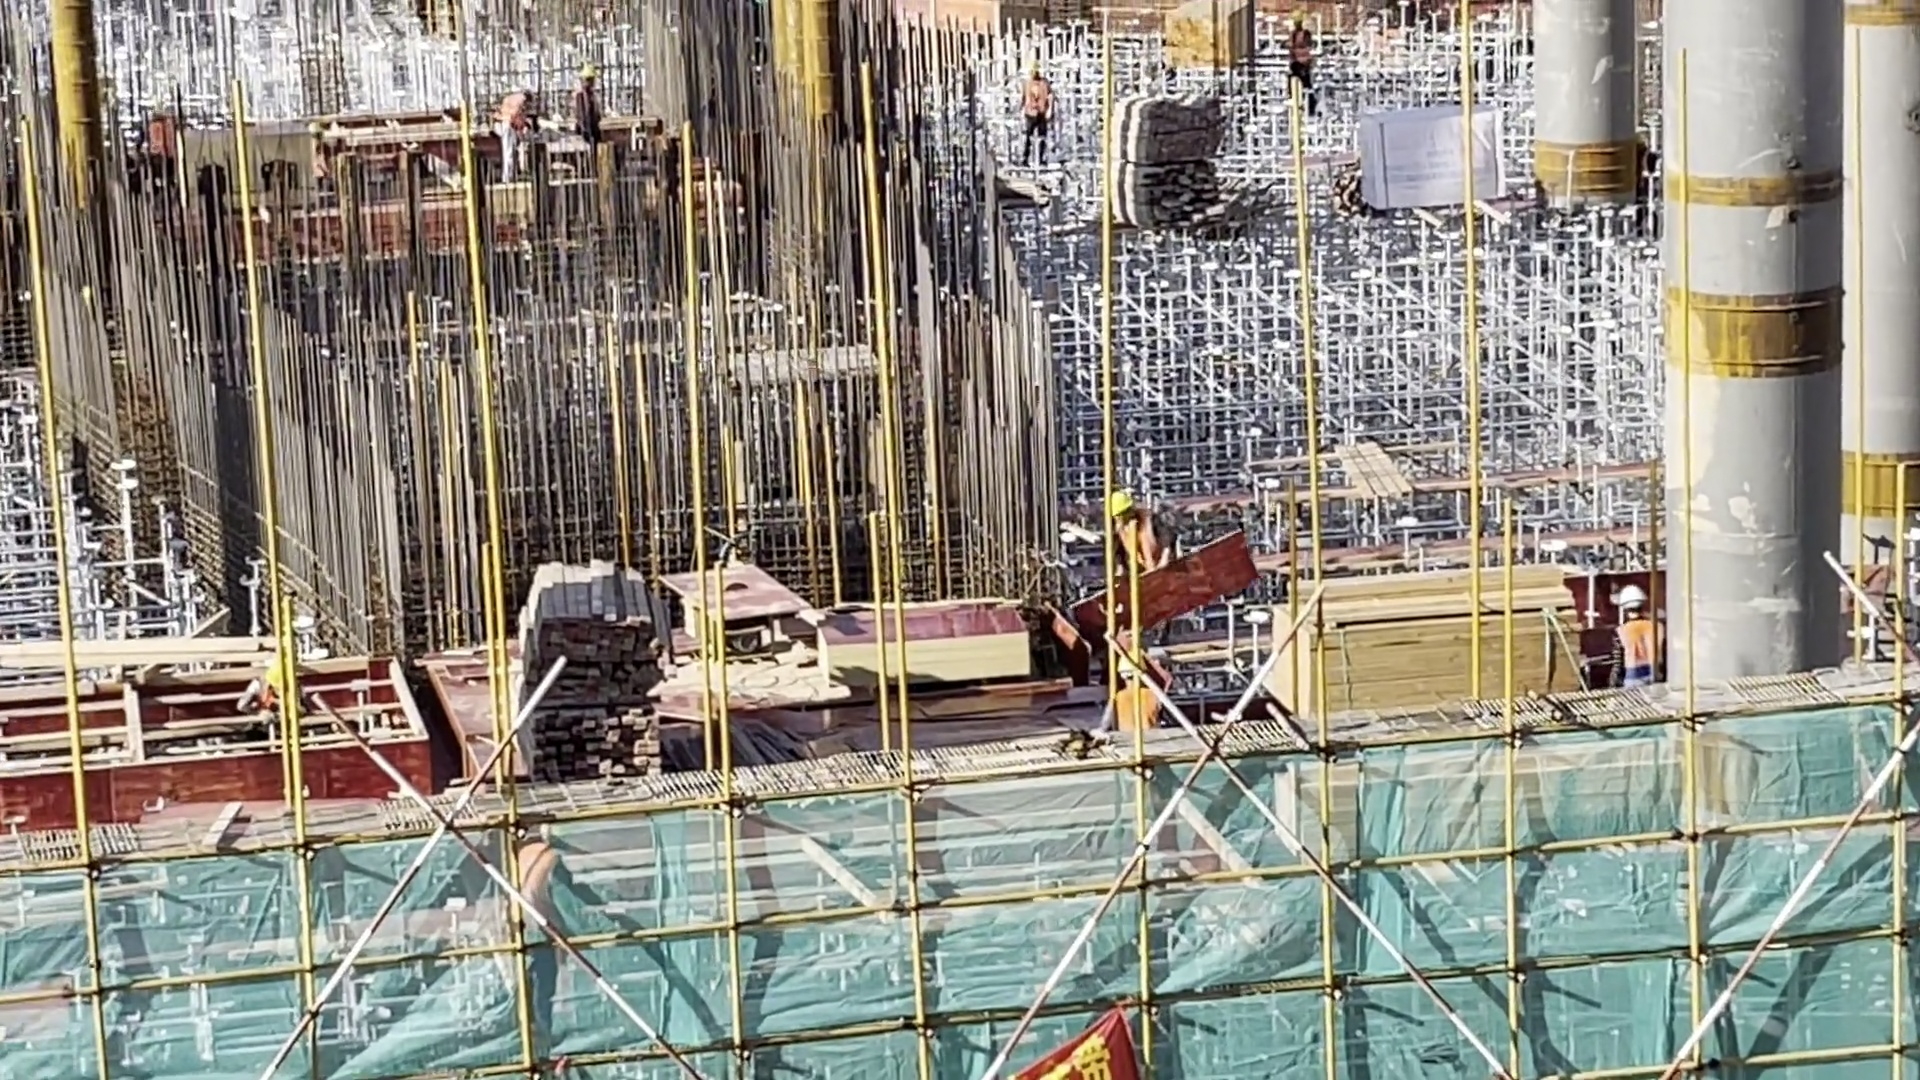helmet: (1612, 576, 1656, 617), (1117, 641, 1154, 687), (1107, 487, 1134, 524)
person: (1601, 574, 1678, 700), (1103, 482, 1182, 593), (1093, 641, 1178, 741)
slogan: (977, 977, 1177, 1080)
vest: (1615, 618, 1669, 684), (1120, 512, 1170, 569), (1112, 683, 1162, 730)
wood: (1251, 553, 1603, 724), (514, 535, 677, 802)
